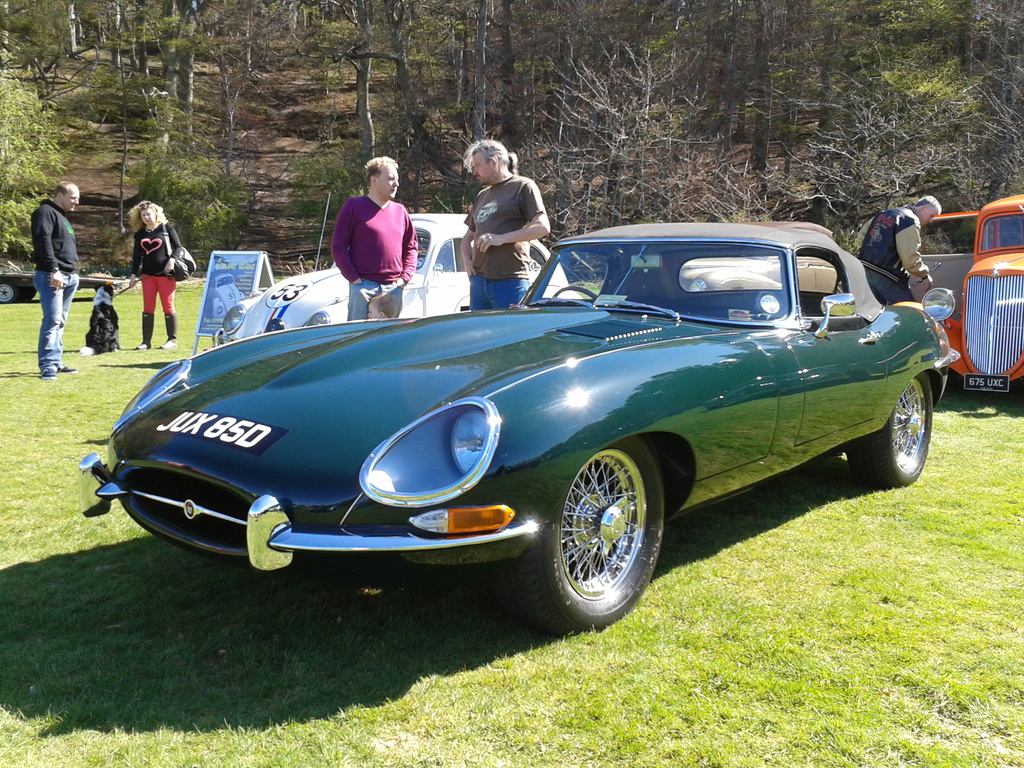cars: (82, 217, 932, 611), (212, 213, 583, 345), (919, 194, 1022, 393), (672, 252, 835, 293)
